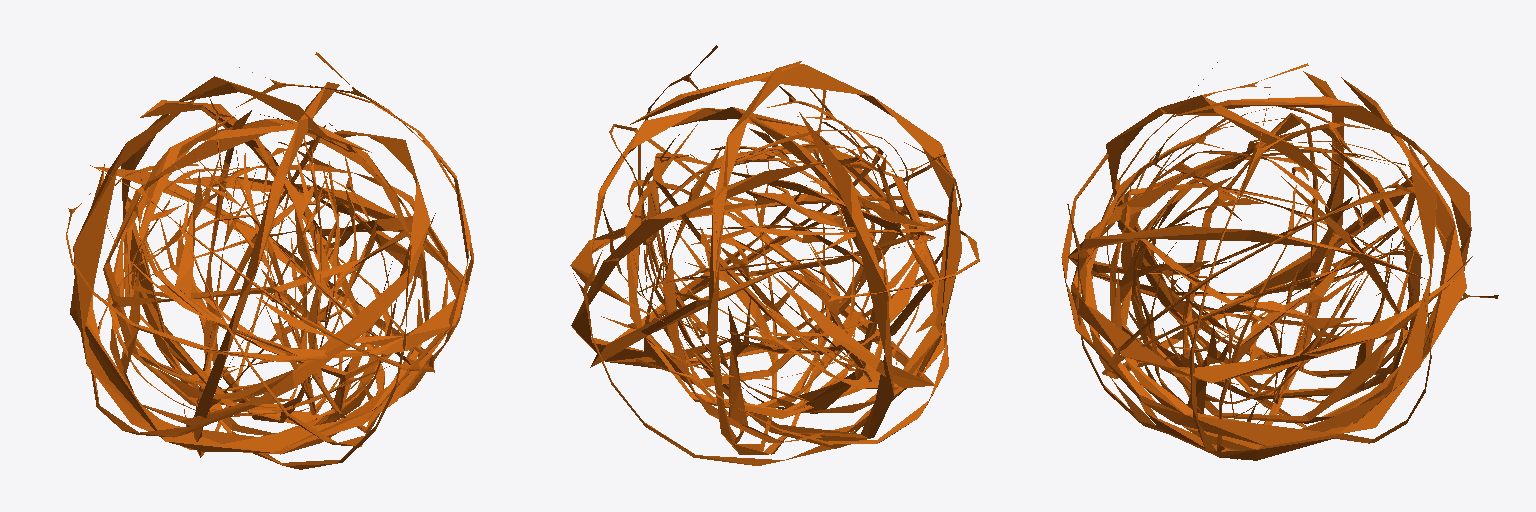
File: zndzxzegfumg.obj
3 views of the same model, side by side, from view 1: azimuth 30°, elevation 25°; view 2: azimuth 150°, elevation 25°; view 3: azimuth 270°, elevation 25° (orthographic).
Visible parts, largest first — view 1: Plane.007; view 2: Plane.007; view 3: Plane.007.
Boxes of the visible parts, x1=… form: Plane.007: x1=66, y1=52, x2=473, y2=469; Plane.007: x1=570, y1=45, x2=979, y2=465; Plane.007: x1=1061, y1=62, x2=1498, y2=460.
Size of the model in its own units: 538 by 564 by 576.